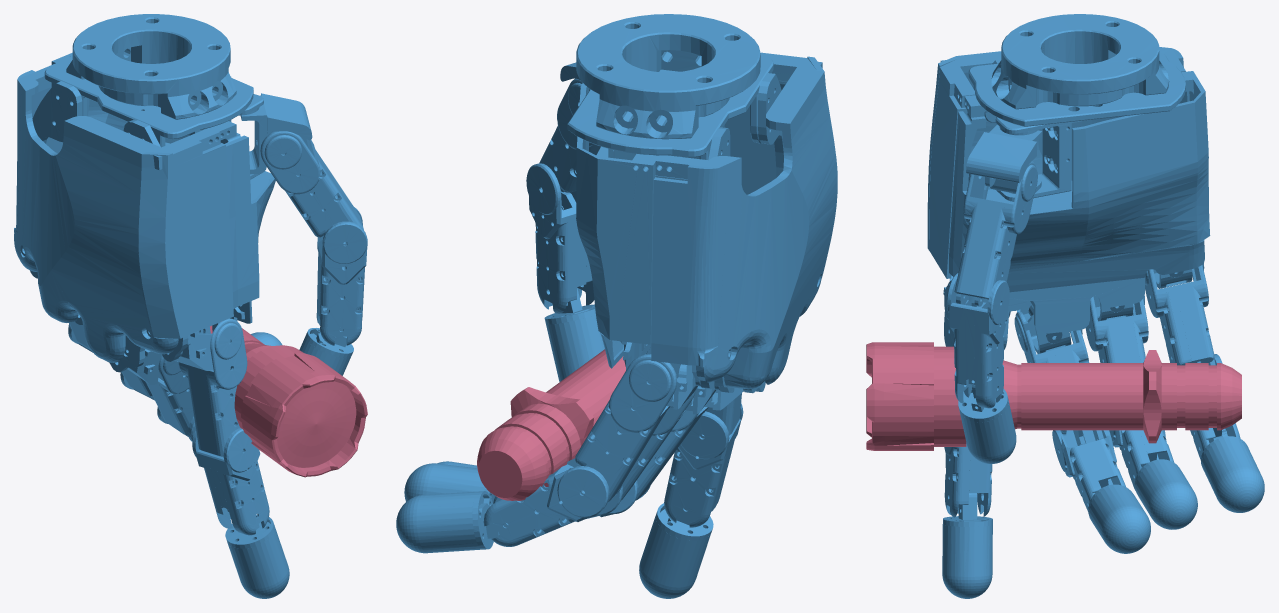
The picture shows the model from 3 angles, left to right: view 1: azimuth 30°, elevation 25°; view 2: azimuth 150°, elevation 25°; view 3: azimuth 270°, elevation 25°; orthographic projection. The views are drawn at different scales.
Parts seen in each view (by area): view 1: 0; view 2: 0; view 3: 0.
Boxes of the visible parts, box(x1,y1,x2,y2) form: 0: box(14, 14, 367, 598); 0: box(396, 14, 837, 598); 0: box(866, 14, 1264, 598).
Bounding box in the file's own units: 0.1332 × 0.2293 × 0.1587.
